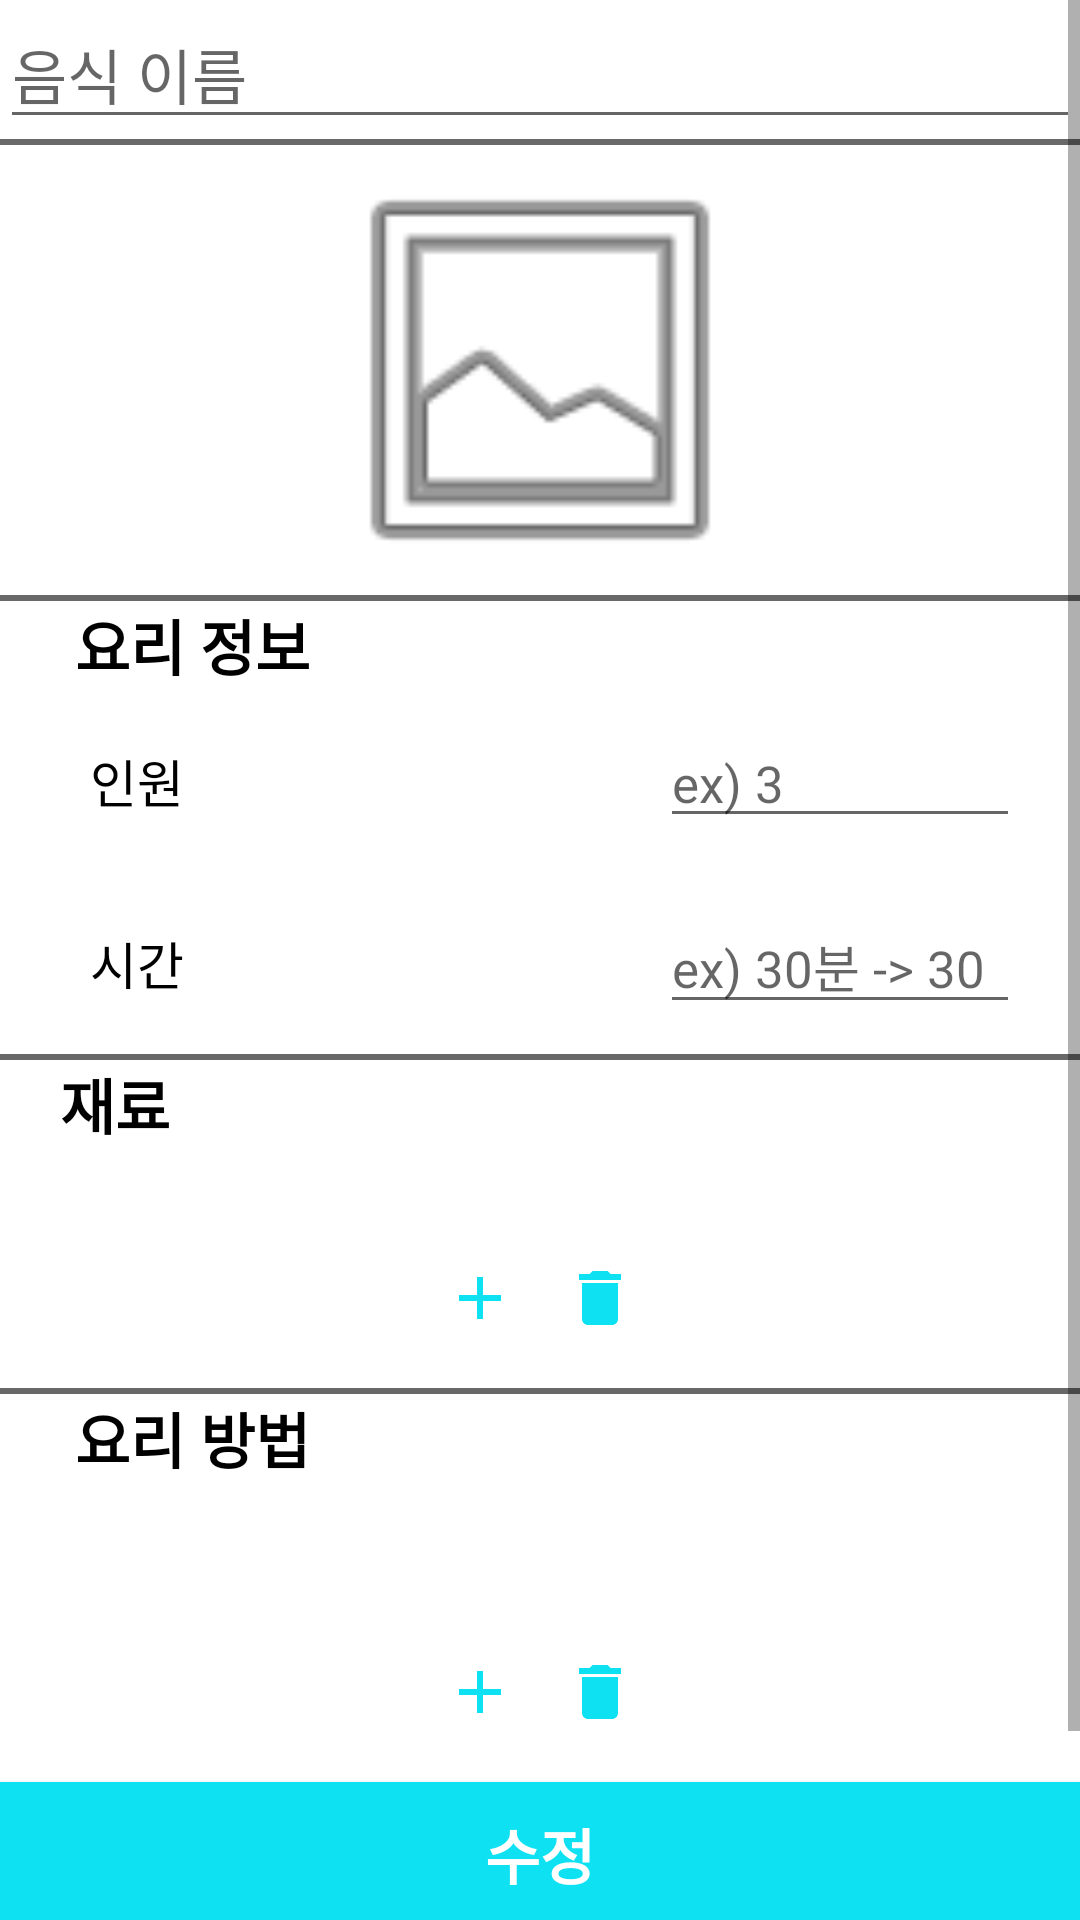

Screen size 1080*1920. Icon name, then its box in pixels as (x1, y1, x2, y2):
add: (459, 1277, 501, 1319), (459, 1671, 501, 1713)
delete: (579, 1271, 621, 1325), (579, 1665, 621, 1719)
gallery: (370, 200, 710, 540)
